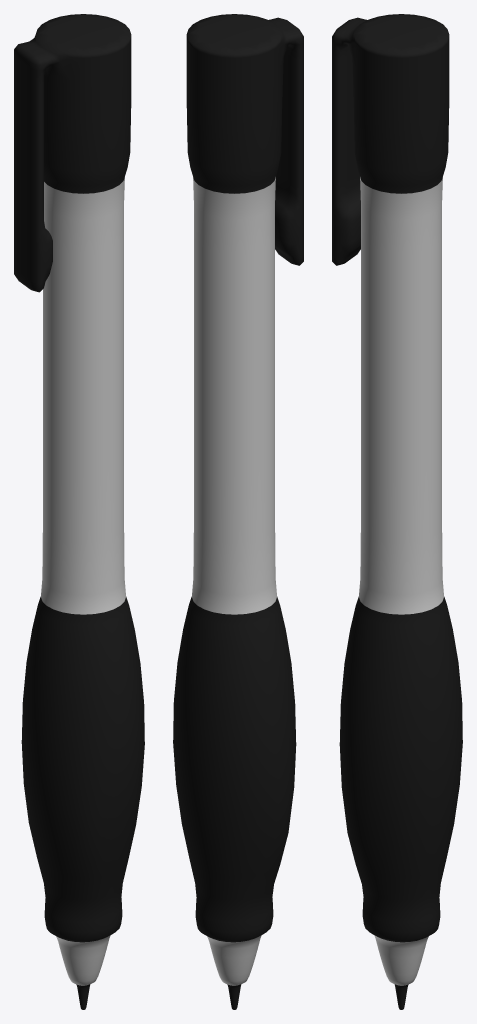
File: Correction_Pen.fbx
3 renders of one model, left to right at view 1: azimuth 30°, elevation 25°; view 2: azimuth 210°, elevation 25°; view 3: azimuth 330°, elevation 25°, orthographic.
Parts seen in each view (by area): view 1: Correction_Pen; view 2: Correction_Pen; view 3: Correction_Pen.
Boxes of the visible parts, x1,y1,x2,y2 form: Correction_Pen: [14, 14, 144, 1009]; Correction_Pen: [173, 14, 303, 1009]; Correction_Pen: [332, 14, 462, 1009].
Bounding box in the file's own units: 69.07 × 576 × 69.71.
1 material, 1 textured.
